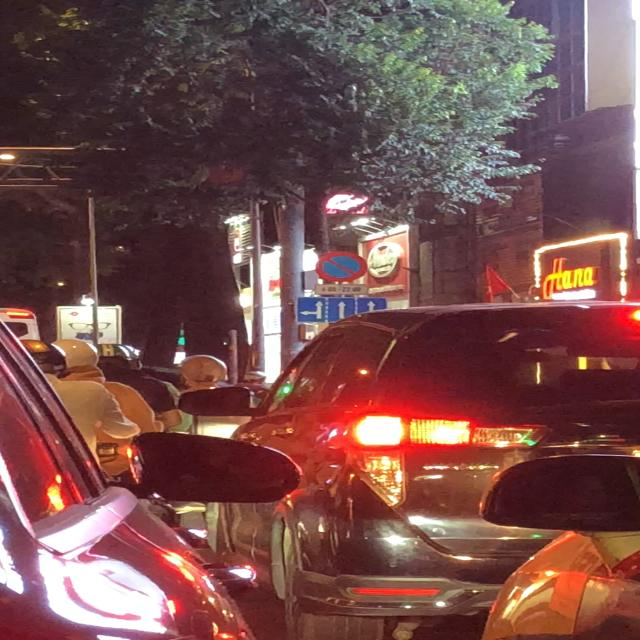Bien bao cam do xe: (310, 249, 375, 283)
